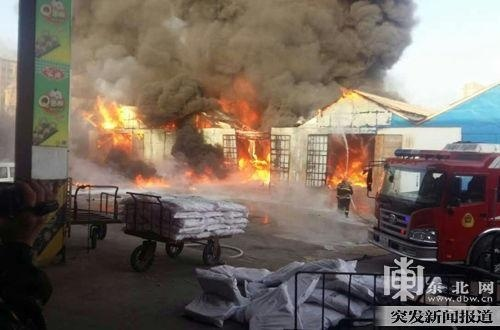fire: (230, 112, 270, 182), (93, 100, 142, 143), (327, 143, 370, 187), (231, 101, 260, 127), (136, 173, 167, 189), (187, 167, 219, 182), (196, 114, 213, 128)
